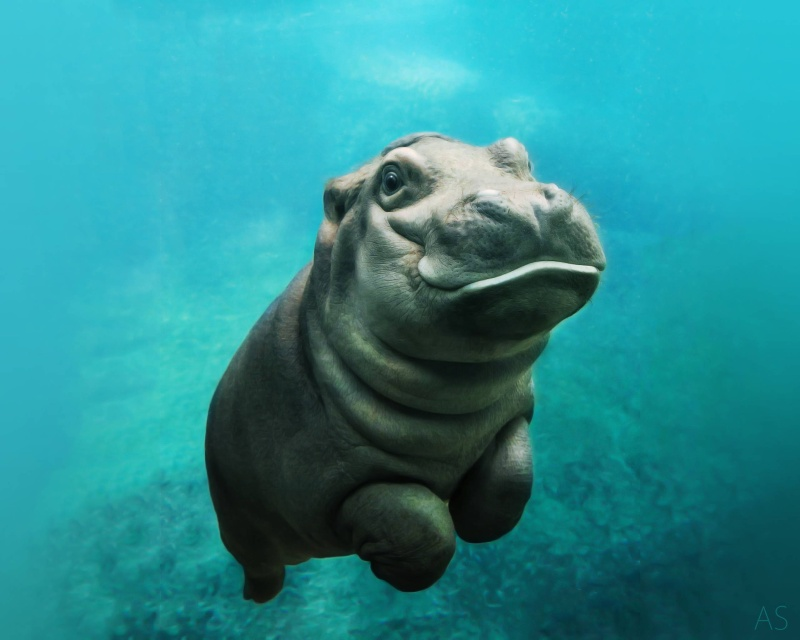hipopotamo: (207, 122, 607, 609)
